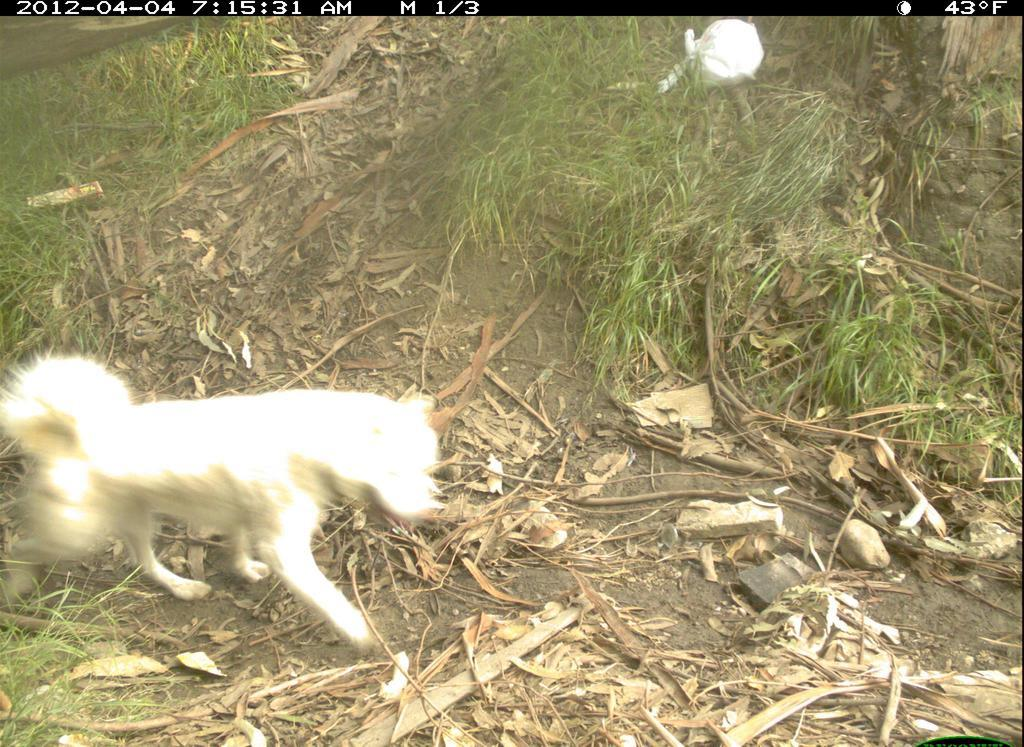dog: (3, 342, 457, 667)
